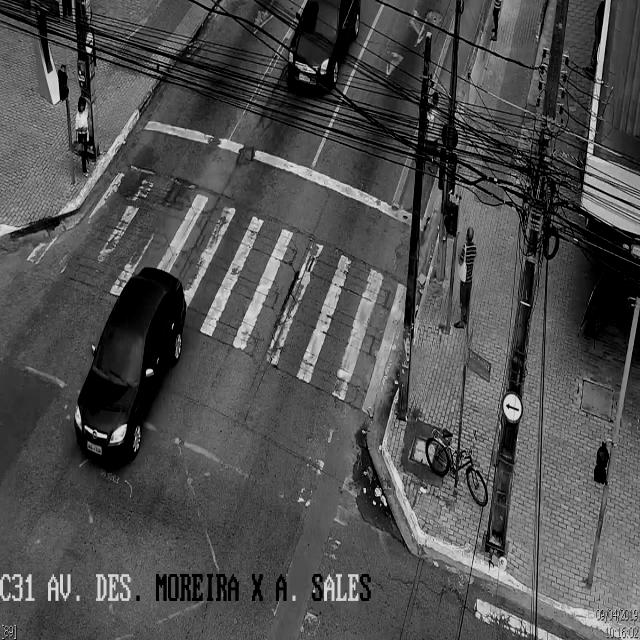Car: (74, 267, 186, 465), (287, 3, 361, 86)
